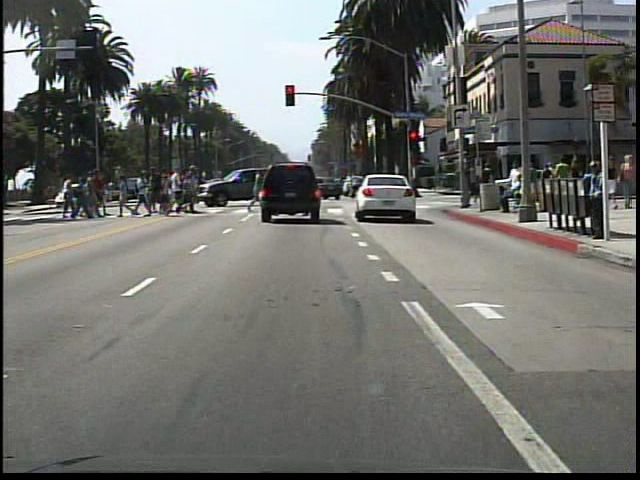person: (581, 156, 605, 241), (617, 151, 635, 212), (607, 152, 619, 209)
